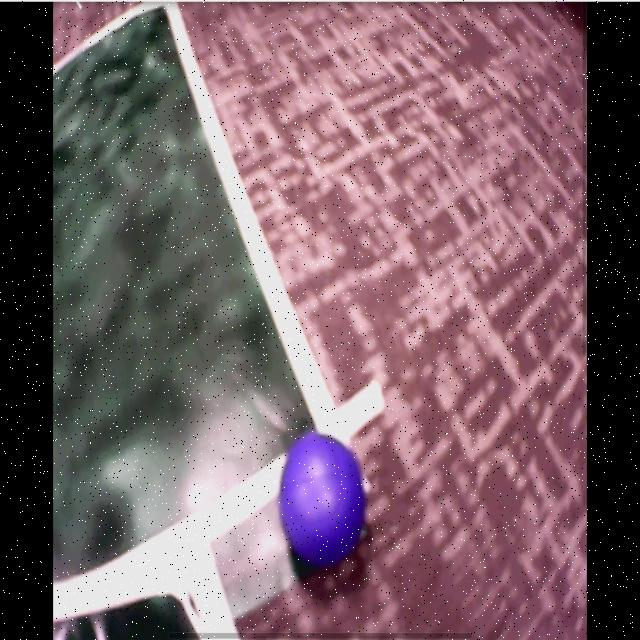ball: (281, 434, 363, 567)
